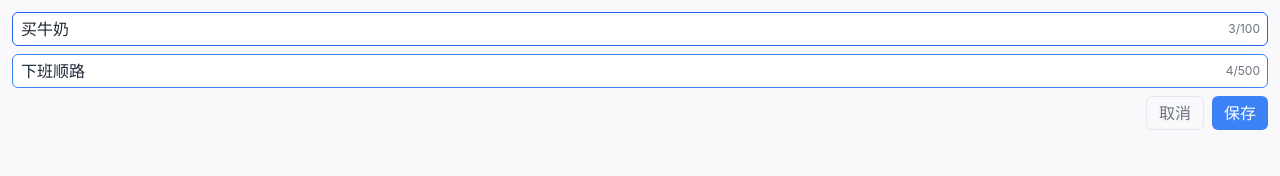
Test: TaskItemEdit › clears validation error after user types in title
This screenshot has width=1280, height=176.
Clear the field showing "买牛奶" at x=640, y=29, box [12,12,1268,46]
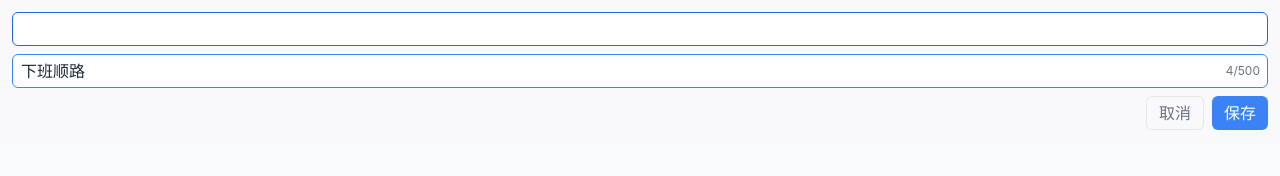
Click the button "保存" at x=1240, y=113, box [1212,96,1268,130]
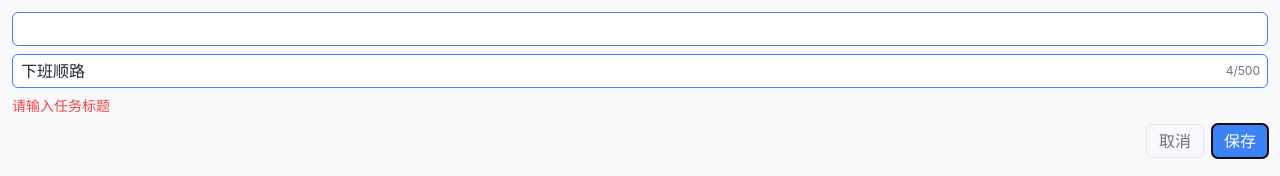
Now the text "请输入任务标题" is shown, box [12,97,110,114]
Type "新标题" into the field named "编辑任务标题" at x=640, y=29, box [12,12,1268,46]
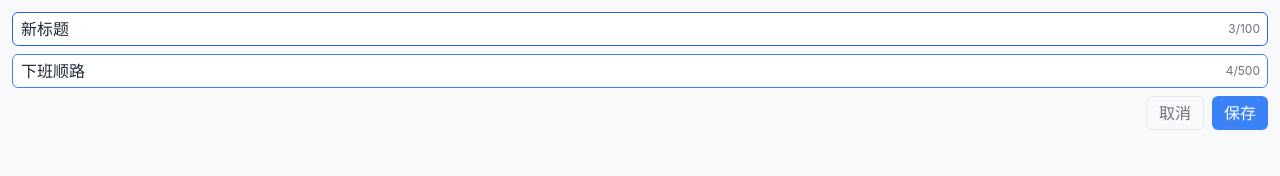
Now the text "请输入任务标题" is gone
